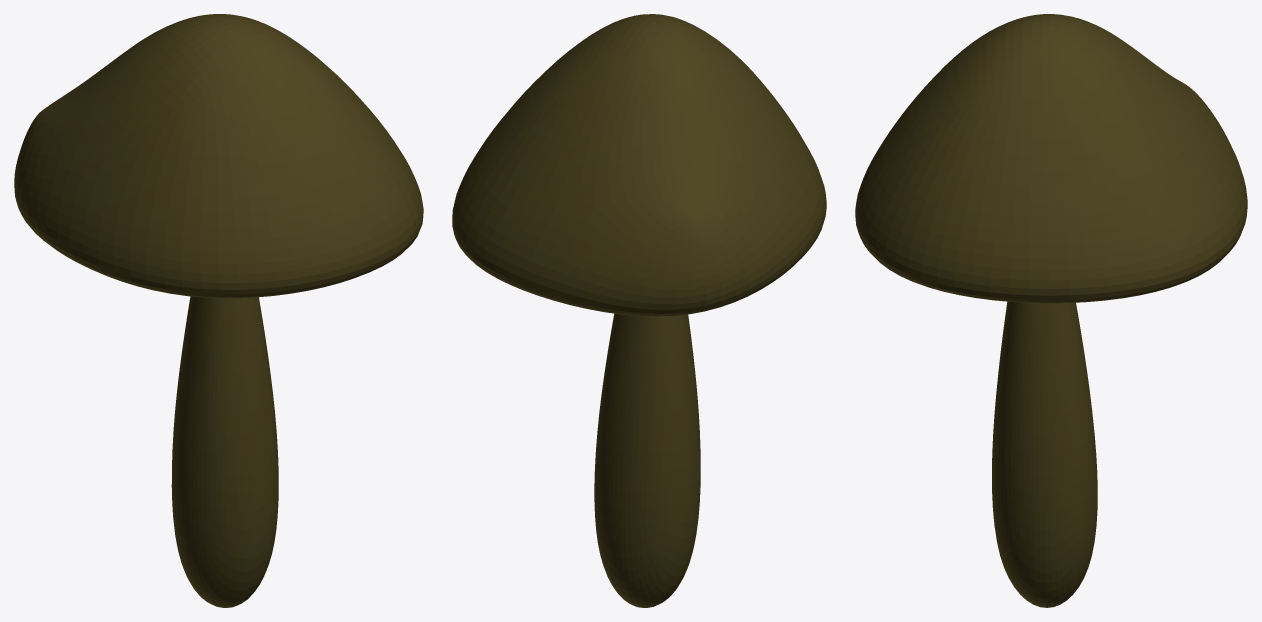
File: CookedMushroom.fbx
3 renders of one model, left to right at view 1: azimuth 30°, elevation 25°; view 2: azimuth 150°, elevation 25°; view 3: azimuth 270°, elevation 25°, orthographic.
Visible parts, largest first — view 1: Cube; view 2: Cube; view 3: Cube.
Part boxes in pixels (x1,y1,x2,y2): Cube: (14,14,423,607); Cube: (452,14,826,607); Cube: (855,14,1247,607).
Size of the model in its own units: 380 by 656 by 401.
